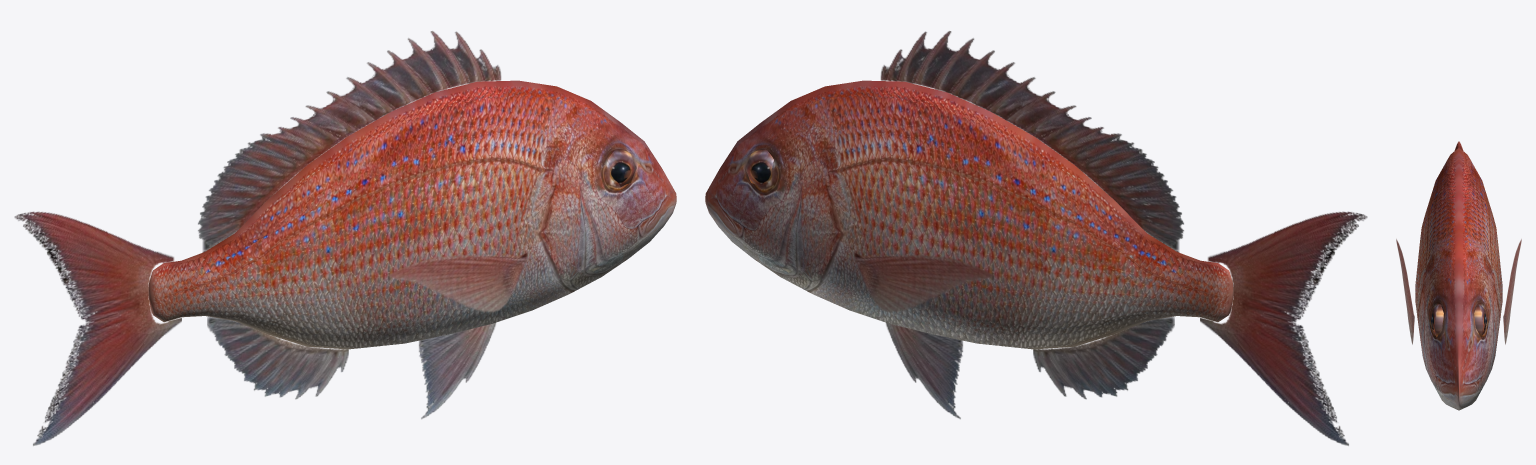
File: madai_lo.glb
3 renders of one model, left to right at view 1: azimuth 30°, elevation 25°; view 2: azimuth 150°, elevation 25°; view 3: azimuth 270°, elevation 25°, orthographic. The views are drawn at different scales.
Visible parts, largest first — view 1: madai; view 2: madai; view 3: madai.
Boxes of the visible parts, x1,y1,x2,y2 form: madai: [14, 31, 676, 445]; madai: [705, 31, 1367, 445]; madai: [1396, 141, 1521, 410].
Size of the model in its own units: 0.4507 by 0.251 by 0.0914.
1 material, 1 textured.
